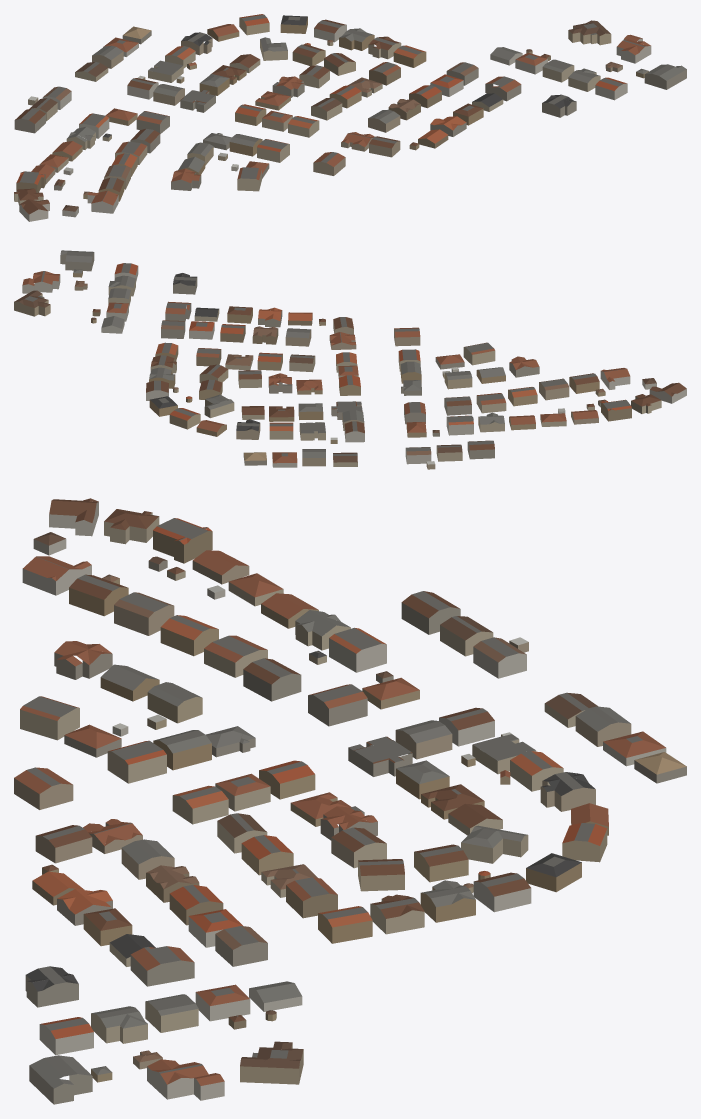
3 views of the same model, one above another, from view 1: azimuth 30°, elevation 25°; view 2: azimuth 150°, elevation 25°; view 3: azimuth 270°, elevation 25° (orthographic). The views are drawn at different scales.
Parts seen in each view (by area): view 1: buildings_r0_c4_lod1; view 2: buildings_r0_c4_lod1; view 3: buildings_r0_c4_lod1.
Part boxes in pixels (left/top/right/bottom): buildings_r0_c4_lod1: left=14, top=14, right=686, bottom=221; buildings_r0_c4_lod1: left=14, top=250, right=686, bottom=469; buildings_r0_c4_lod1: left=14, top=498, right=686, bottom=1104.
Bounding box in the file's own units: 532 × 23.76 × 269.
